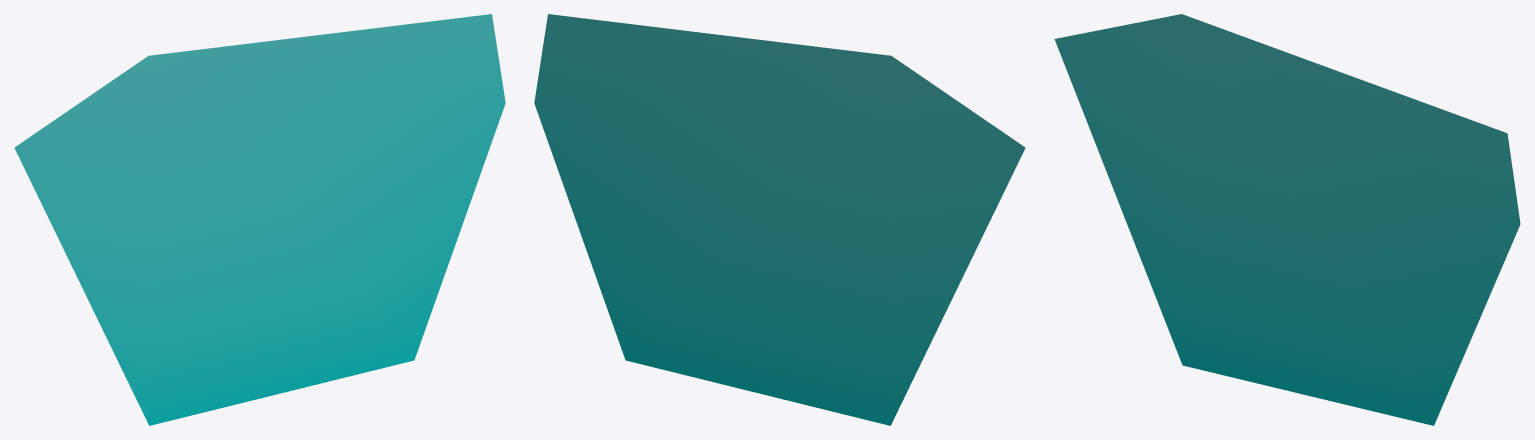
Rendered from Purple_Shamrock_rjrrH_Mid_rjrrH_VarB_LOD3.fbx.
3 views of the same model, side by side, from view 1: azimuth 30°, elevation 25°; view 2: azimuth 150°, elevation 25°; view 3: azimuth 330°, elevation 25° (orthographic). The views are drawn at different scales.
Parts seen in each view (by area): view 1: _4107_VarB_LOD4; view 2: _4107_VarB_LOD4; view 3: _4107_VarB_LOD4.
Boxes of the visible parts, x1,y1,x2,y2 form: _4107_VarB_LOD4: (14,14,505,425); _4107_VarB_LOD4: (534,14,1025,425); _4107_VarB_LOD4: (1054,14,1520,425).
Size of the model in its own units: 41.93 by 30.2 by 0.
